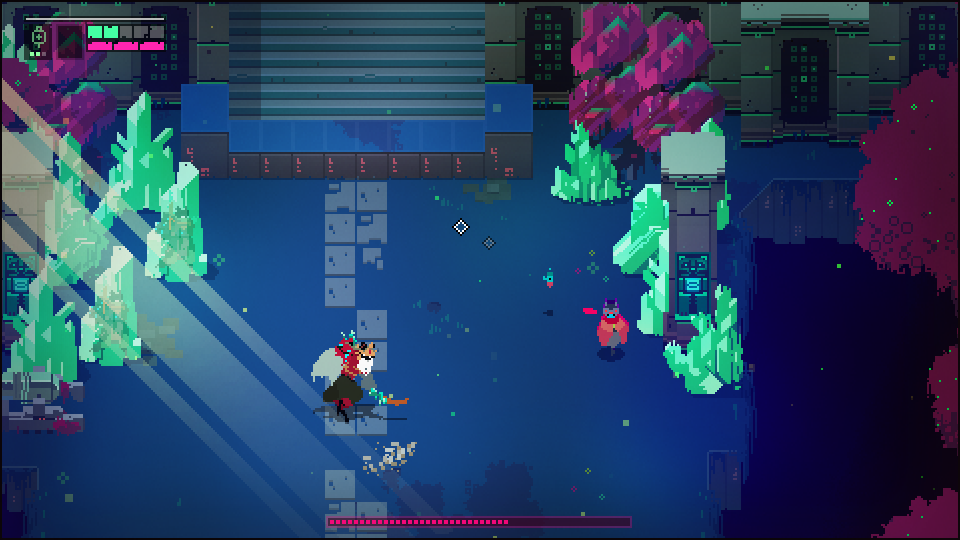hanged_man: (306, 329, 394, 417)
player: (596, 300, 632, 353)
